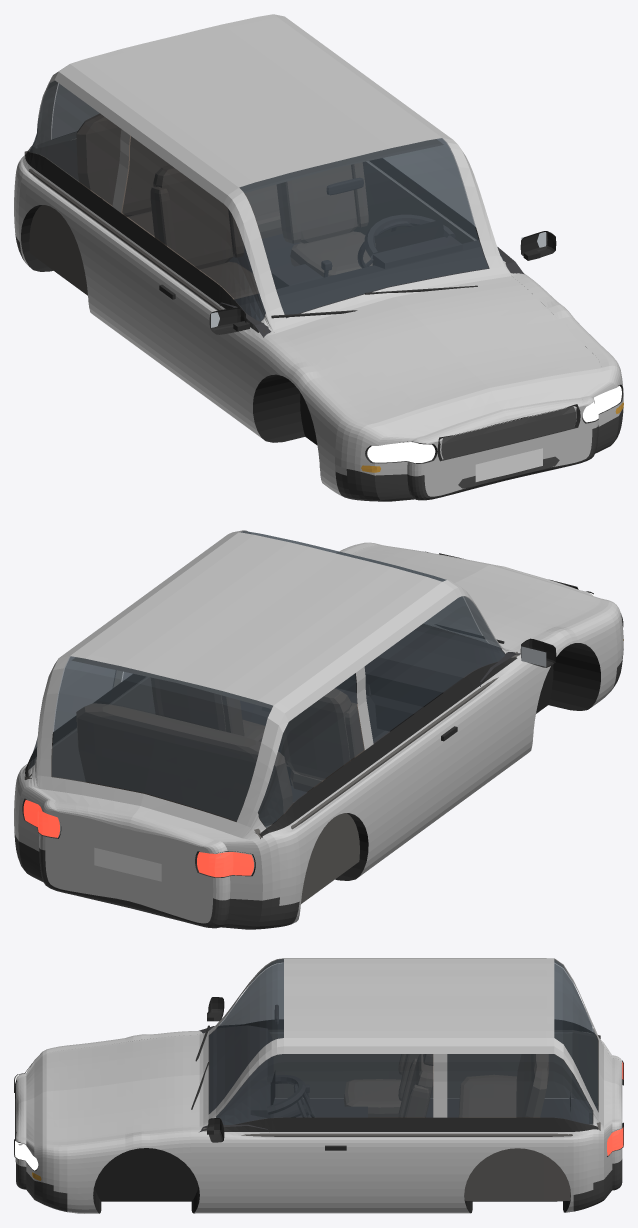
File: car_mistral.fbx
3 renders of one model, top to bottom at view 1: azimuth 30°, elevation 25°; view 2: azimuth 150°, elevation 25°; view 3: azimuth 270°, elevation 25°, orthographic. The views are drawn at different scales.
Parts seen in each view (by area): view 1: mistral__glass, mistral__roof, mistral__hood, mistral__seats, mistral__interior, mistral__doorR, mistral__cabin, mistral__quarterR, mistral__pillars, mistral__fenderFR, mistral__seals, mistral__fascia (+10 smaller); view 2: mistral__glass, mistral__roof, mistral__seats, mistral__quarterR, mistral__rearPanel, mistral__hood, mistral__doorR, mistral__interior, mistral__pillars, mistral__trunk, mistral__cabin, mistral__seals (+6 smaller); view 3: mistral__glass, mistral__roof, mistral__hood, mistral__cabin, mistral__doorL, mistral__quarterL, mistral__interior, mistral__seats, mistral__fenderFL, mistral__seals, mistral__pillars, mistral__wells (+6 smaller).
Boxes of the visible parts, x1,y1,x2,y2 form: mistral__glass: (29,81,503,321); mistral__roof: (59,14,452,194); mistral__hood: (264,274,612,444); mistral__seats: (76,113,375,299); mistral__interior: (220,177,524,337); mistral__doorR: (144,258,257,432); mistral__cabin: (24,139,475,332); mistral__quarterR: (14,155,155,357); mistral__pillars: (28,69,506,326); mistral__fenderFR: (246,333,414,496); mistral__seals: (25,151,479,332); mistral__fascia: (407,397,598,496); mistral__glass: (29,531,504,827); mistral__roof: (59,532,453,713); mistral__seats: (76,677,364,826); mistral__quarterR: (223,733,426,924); mistral__rearPanel: (39,801,230,923); mistral__hood: (338,542,612,652); mistral__doorR: (415,658,529,833); mistral__interior: (240,626,520,802); mistral__pillars: (28,530,507,832); mistral__trunk: (26,623,520,851); mistral__cabin: (24,652,519,903); mistral__seals: (25,657,517,835); mistral__glass: (209,959,597,1124); mistral__roof: (284,958,554,1046); mistral__hood: (16,1031,199,1147); mistral__cabin: (203,1029,600,1200); mistral__doorL: (208,1132,372,1213); mistral__quarterL: (373,1123,612,1213); mistral__interior: (199,1005,588,1132); mistral__seats: (343,1054,549,1117); mistral__fenderFL: (26,1132,208,1213); mistral__seals: (224,1019,598,1131); mistral__pillars: (208,958,598,1126); mistral__wells: (93,1092,570,1213).
Size of the model in its own units: 2.2 by 1.3 by 4.26.
